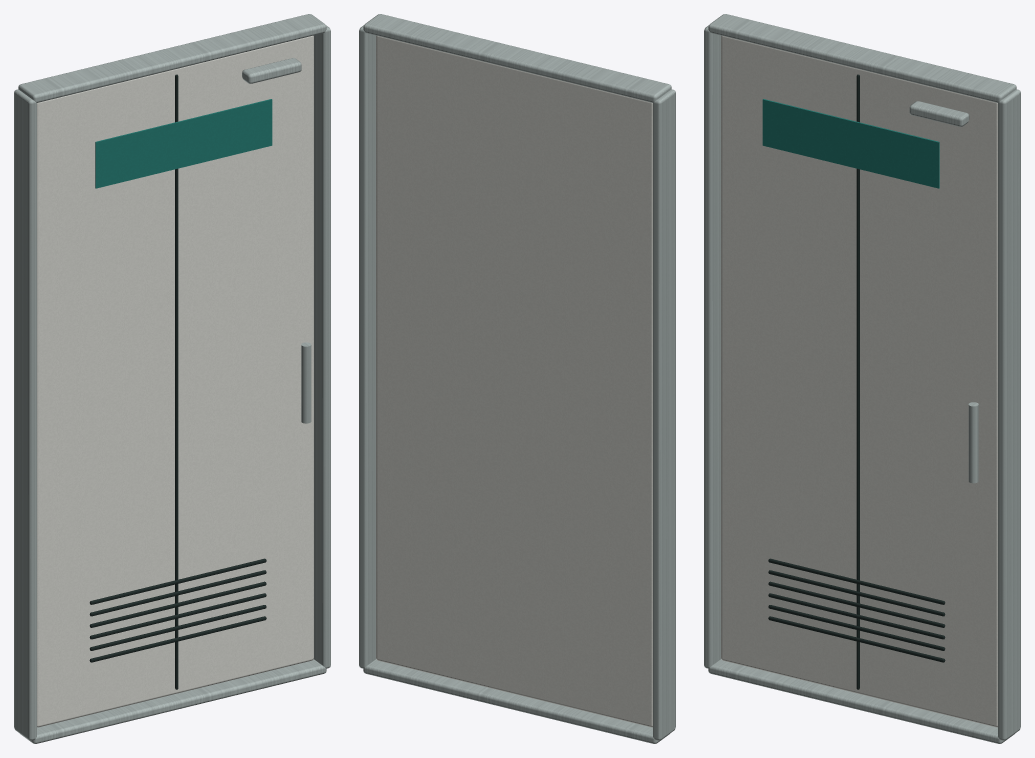
Rendered from detail-equipment-door-0.glb.
3 renders of one model, left to right at view 1: azimuth 30°, elevation 25°; view 2: azimuth 150°, elevation 25°; view 3: azimuth 330°, elevation 25°, orthographic.
Visible parts, largest first — view 1: door_panel, frame_side (×2), frame_rail (×2), label_room_sign, vent_slot (×6), door_seam, closer, pull_handle; view 2: door_panel, frame_side (×2), frame_rail (×2); view 3: door_panel, frame_side (×2), frame_rail (×2), label_room_sign, vent_slot (×6), door_seam, closer, pull_handle.
Boxes of the visible parts, box(x1,y1,x2,y2) form: door_panel: box(37, 35, 313, 727); frame_side (×2): box(14, 25, 330, 740); frame_rail (×2): box(18, 14, 326, 743); label_room_sign: box(95, 99, 272, 188); vent_slot (×6): box(89, 558, 266, 662); door_seam: box(175, 74, 178, 689); closer: box(242, 58, 301, 83); pull_handle: box(301, 342, 311, 423); door_panel: box(376, 35, 652, 727); frame_side (×2): box(359, 25, 675, 740); frame_rail (×2): box(363, 14, 671, 743); door_panel: box(721, 35, 997, 727); frame_side (×2): box(704, 25, 1020, 740); frame_rail (×2): box(708, 14, 1016, 743); label_room_sign: box(762, 99, 939, 188); vent_slot (×6): box(768, 558, 945, 662); door_seam: box(856, 74, 859, 689); closer: box(909, 101, 969, 126); pull_handle: box(968, 402, 978, 483).
Size of the model in its own units: 1.24 by 2.54 by 0.17.
4 materials, 4 textured.
